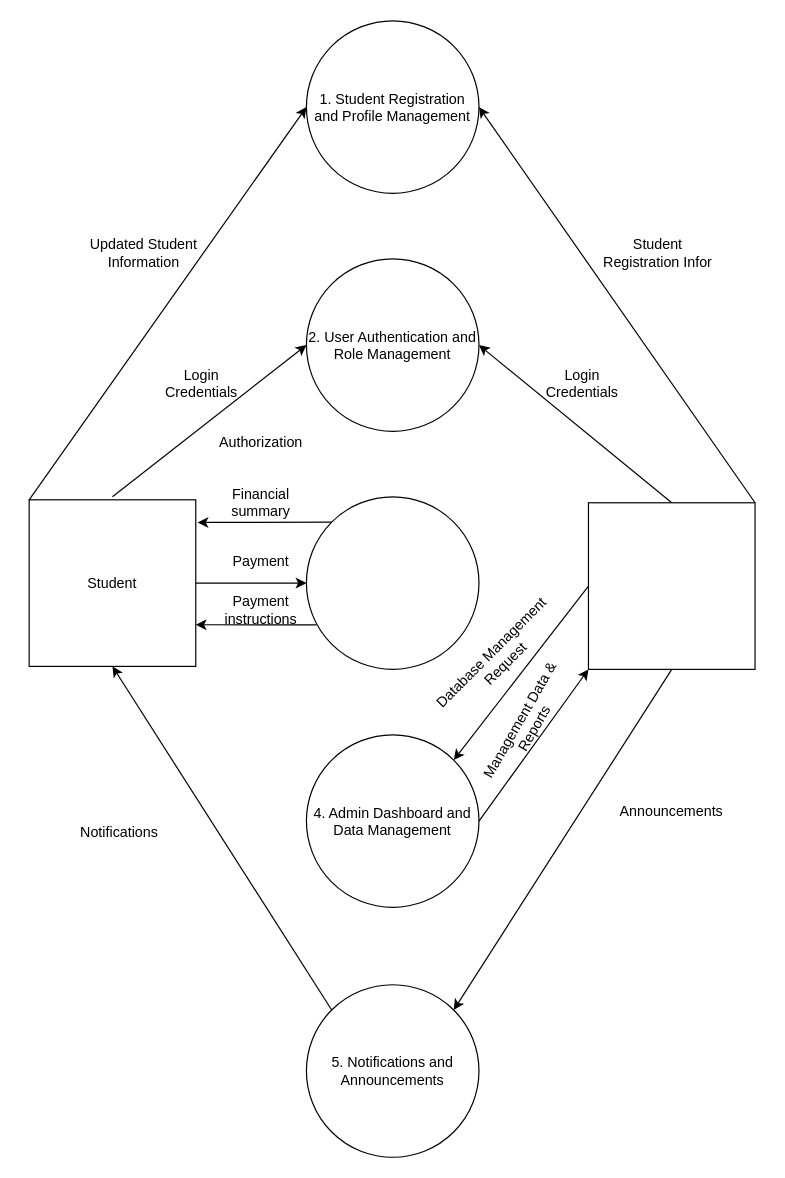
The diagram is 785 pixels wide and 1178 high, and some of its shapes have lost their labels. Each missing label, with the box of its shape:
3. Fee and Financial Management: (305, 496, 479, 669)
Administrator: (587, 502, 755, 669)
